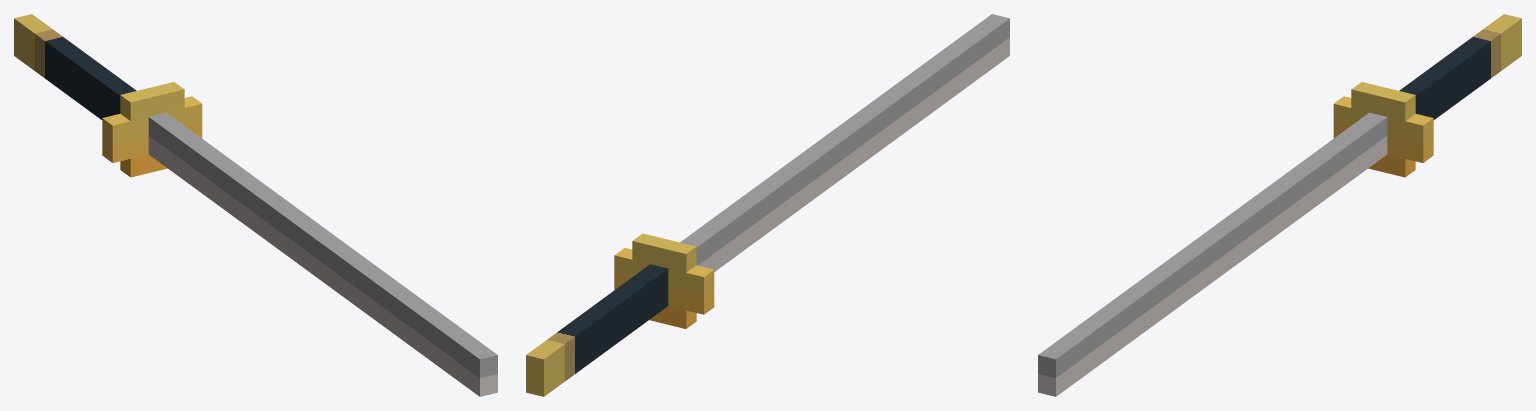
Rendered from Weapon031.fbx.
3 views of the same model, side by side, from view 1: azimuth 30°, elevation 25°; view 2: azimuth 150°, elevation 25°; view 3: azimuth 330°, elevation 25° (orthographic).
Parts seen in each view (by area): view 1: Weapon031; view 2: Weapon031; view 3: Weapon031.
Boxes of the visible parts, box(x1,y1,x2,y2) form: Weapon031: box(14, 14, 497, 396); Weapon031: box(526, 14, 1009, 396); Weapon031: box(1038, 14, 1521, 396).
Bounding box in the file's own units: 5 × 4 × 45.
